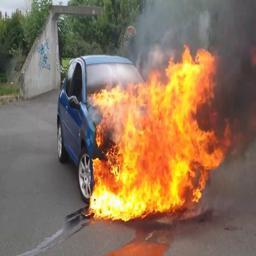fire: (88, 42, 227, 222)
